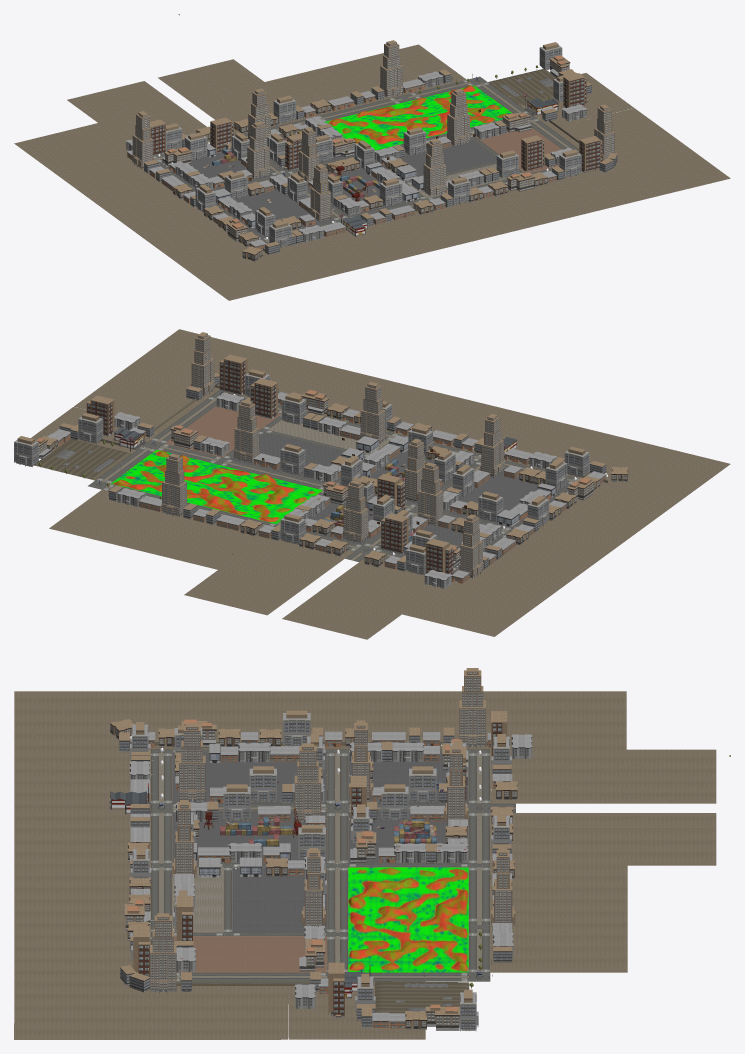
File: city.glb
The picture shows the model from 3 angles, top to bottom: view 1: azimuth 30°, elevation 25°; view 2: azimuth 150°, elevation 25°; view 3: azimuth 270°, elevation 25°; orthographic projection. The views are drawn at different scales.
Visible parts, largest first — view 1: _2Game_City_Pavement_Far_01, _2Game_City_Pavement_Near_01, terreno, Pavement_110x180, Test_track, Pavement_140x180, Pavement_100x180, building_01_8, building_01_7, building_01_6, building_01_4, building_01_5 (+23 smaller); view 2: _2Game_City_Pavement_Far_01, _2Game_City_Pavement_Near_01, terreno, Test_track, Pavement_140x180, Pavement_100x180, Pavement_110x180, building_01_3, building_01_7, building_01_4, building_01_6, building_01_8 (+25 smaller); view 3: _2Game_City_Pavement_Far_01, _2Game_City_Pavement_Near_01, terreno, Pavement_110x180, Pavement_100x180, Test_track, Pavement_140x180, Pavement_140x180_1, Pavement_60x180, building_01_2, building_01_5, building_01_1 (+36 smaller).
Boxes of the visible parts, bbox=[...] form: _2Game_City_Pavement_Far_01: bbox=[14, 53, 730, 300]; _2Game_City_Pavement_Near_01: bbox=[106, 44, 638, 261]; terreno: bbox=[325, 85, 512, 150]; Pavement_110x180: bbox=[375, 139, 496, 182]; Test_track: bbox=[488, 69, 556, 105]; Pavement_140x180: bbox=[215, 188, 334, 238]; Pavement_100x180: bbox=[472, 127, 561, 173]; building_01_8: bbox=[423, 139, 446, 196]; building_01_7: bbox=[447, 88, 470, 146]; building_01_6: bbox=[246, 121, 270, 178]; building_01_4: bbox=[380, 40, 403, 97]; building_01_5: bbox=[310, 164, 331, 221]; _2Game_City_Pavement_Far_01: bbox=[74, 329, 730, 639]; _2Game_City_Pavement_Near_01: bbox=[31, 383, 629, 625]; terreno: bbox=[111, 449, 322, 524]; Test_track: bbox=[35, 438, 131, 480]; Pavement_140x180: bbox=[443, 468, 570, 528]; Pavement_100x180: bbox=[165, 406, 281, 457]; Pavement_110x180: bbox=[228, 432, 365, 482]; building_01_3: bbox=[343, 480, 368, 543]; building_01_7: bbox=[234, 400, 259, 462]; building_01_4: bbox=[161, 453, 187, 516]; building_01_6: bbox=[417, 462, 443, 525]; building_01_8: bbox=[360, 382, 385, 443]; _2Game_City_Pavement_Far_01: bbox=[14, 691, 716, 1039]; _2Game_City_Pavement_Near_01: bbox=[109, 732, 716, 1039]; terreno: bbox=[348, 867, 468, 972]; Pavement_110x180: bbox=[232, 867, 326, 932]; Pavement_100x180: bbox=[174, 936, 326, 972]; Test_track: bbox=[375, 981, 469, 1013]; Pavement_140x180: bbox=[172, 753, 326, 803]; Pavement_140x180_1: bbox=[172, 813, 326, 863]; Pavement_60x180: bbox=[172, 867, 223, 932]; building_01_2: bbox=[150, 913, 176, 993]; building_01_5: bbox=[179, 723, 205, 802]; building_01_1: bbox=[459, 668, 485, 748].
Bounding box in the file's own units: 960 × 99.72 × 834.
Materials: 65 (52 with a texture image).
